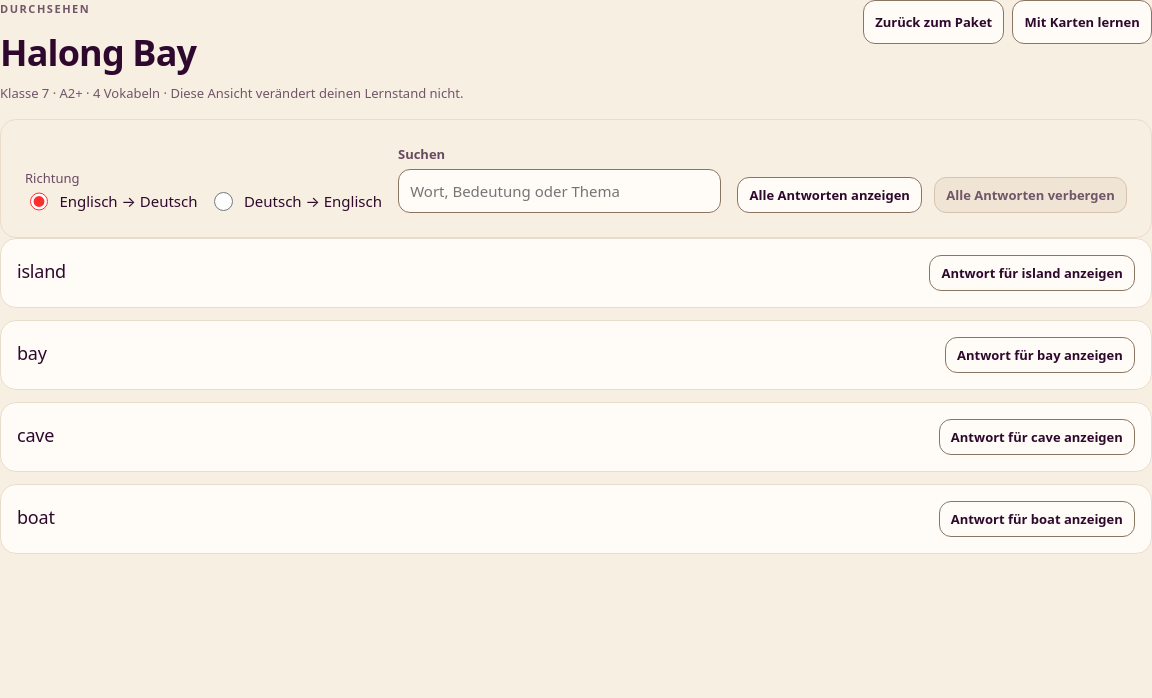
Test: Vokabeln durchsehen › deckt eine einzelne Antwort auf und wieder zu
This screenshot has width=1152, height=698.
Click the button "Antwort für island anzeigen" at (1032, 273), box [929,255,1135,291]
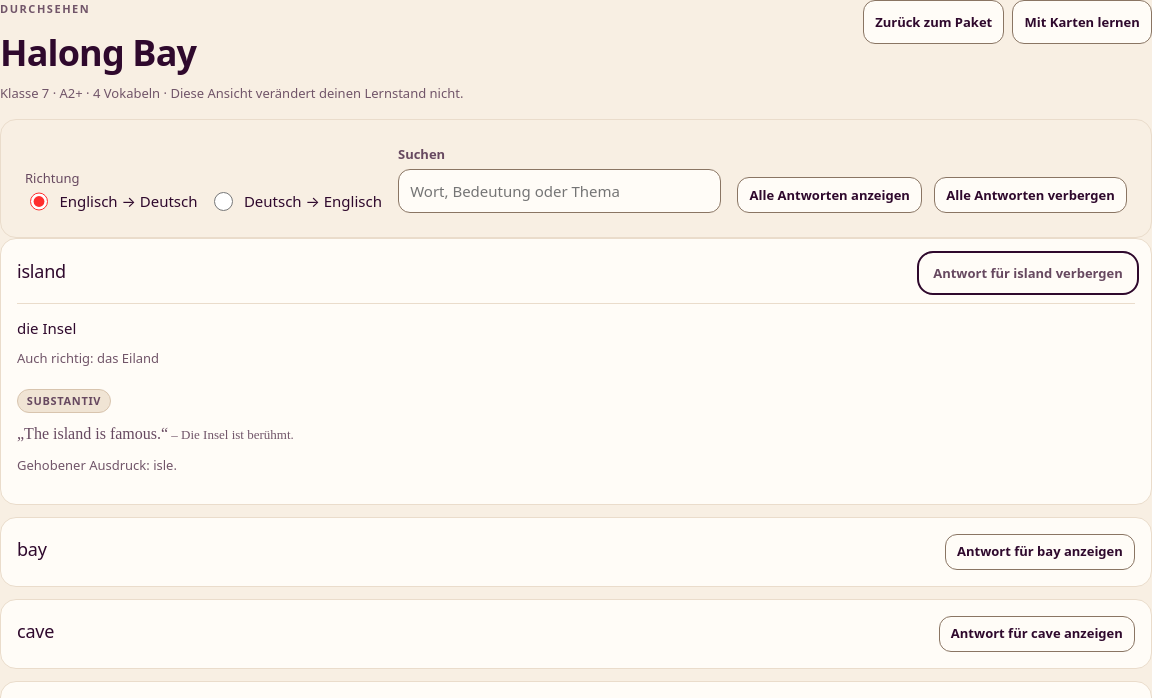
Expected: the text "die Insel" is shown, [17,316,76,340]
Expected: the text "Auch richtig: das Eiland" is shown, [17,348,159,369]
Expected: the text "Substantiv" is shown, [17,389,111,413]
Click the button "Antwort für island verbergen" at (1028, 273), box [921,255,1135,291]
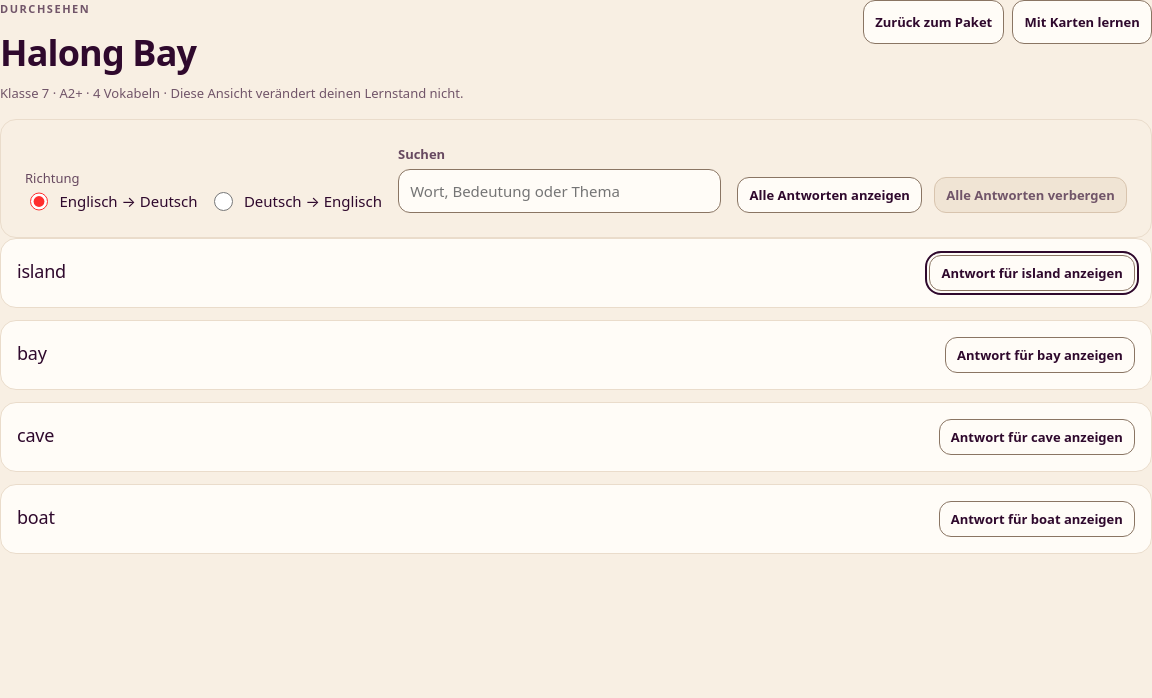
Expected: the text "die Insel" is gone
